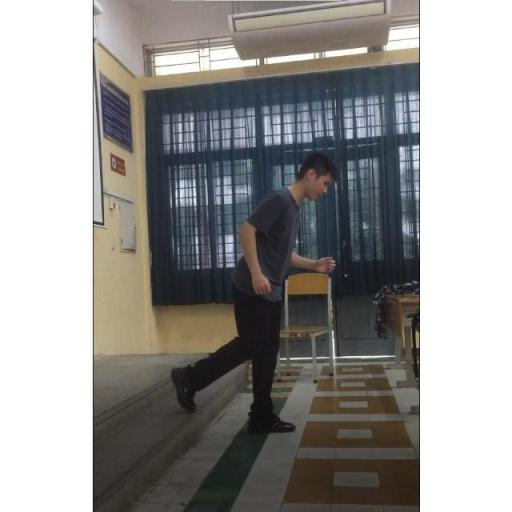Running: (168, 146, 340, 442)
